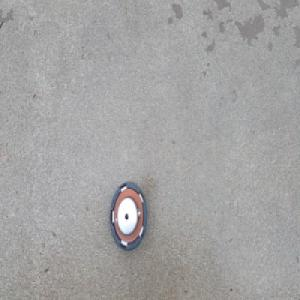FuelCap: (108, 179, 148, 252)
